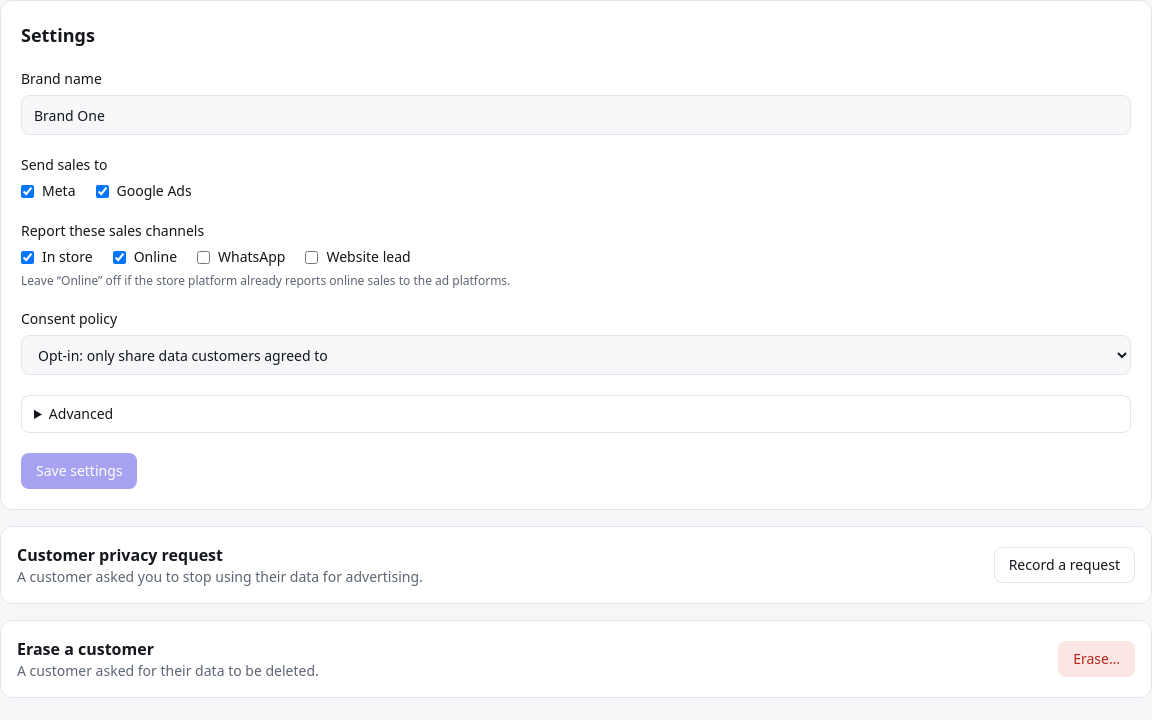
Test: erasing a customer › says what it does and what it cannot do
Click the button "Erase…" at (1097, 659), box [1058,641,1135,677]
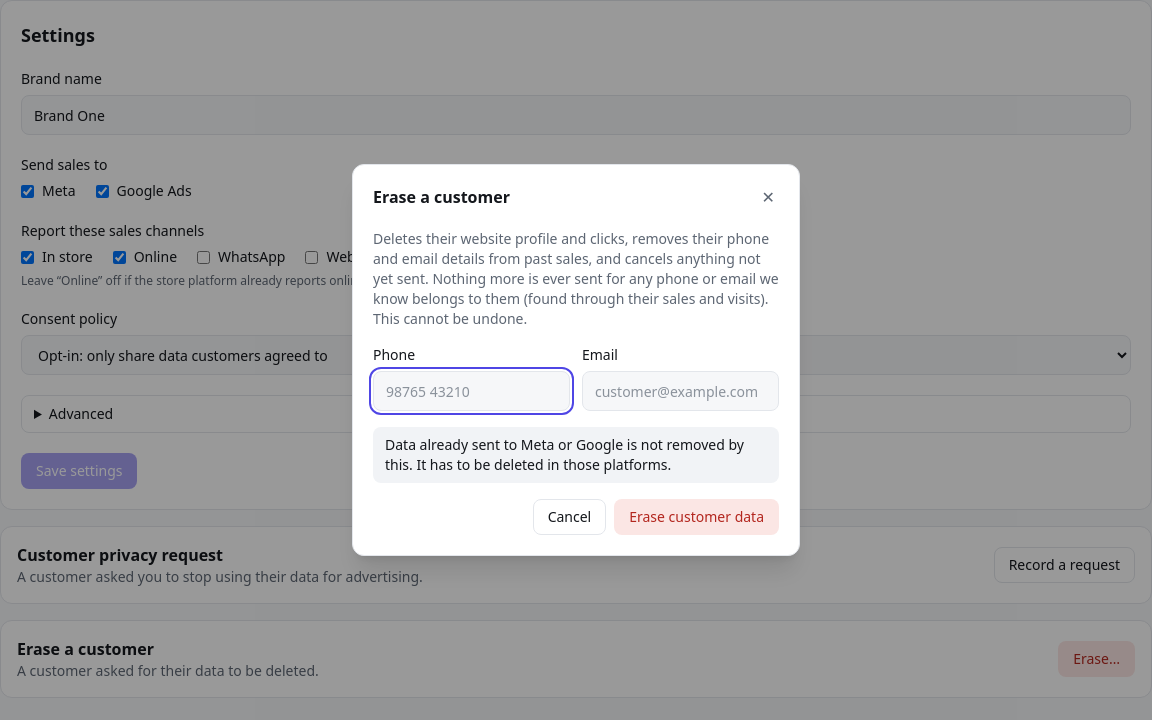
Expected: the dialog "Erase a customer" shows "cannot be undone", [373,229,779,328]
Expected: the dialog "Erase a customer" shows "Meta or Google is not removed", [385,435,744,474]
Expected: the button "Erase customer data" is shown, [614,499,779,535]
